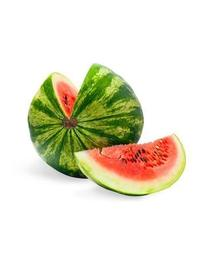watermelon: (25, 64, 145, 182), (72, 133, 193, 198)
